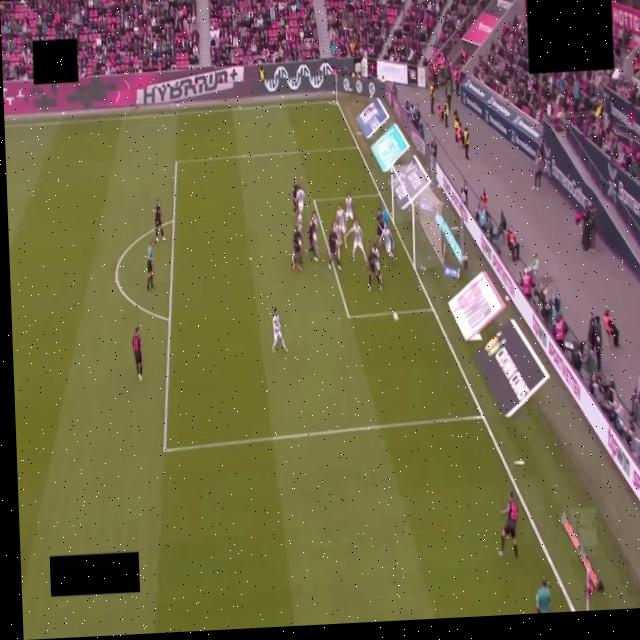ball: (393, 312, 399, 321)
player: (499, 491, 518, 562), (347, 221, 367, 263), (272, 308, 288, 353), (327, 223, 341, 270), (368, 247, 381, 291), (133, 327, 142, 382), (308, 213, 318, 261), (292, 224, 302, 271), (381, 223, 393, 261), (336, 206, 347, 247), (155, 200, 165, 240), (372, 237, 381, 280), (291, 180, 301, 215), (332, 221, 341, 258), (297, 188, 305, 223), (345, 194, 354, 224), (376, 209, 384, 241), (382, 206, 390, 227)
referee: (147, 241, 153, 290)
